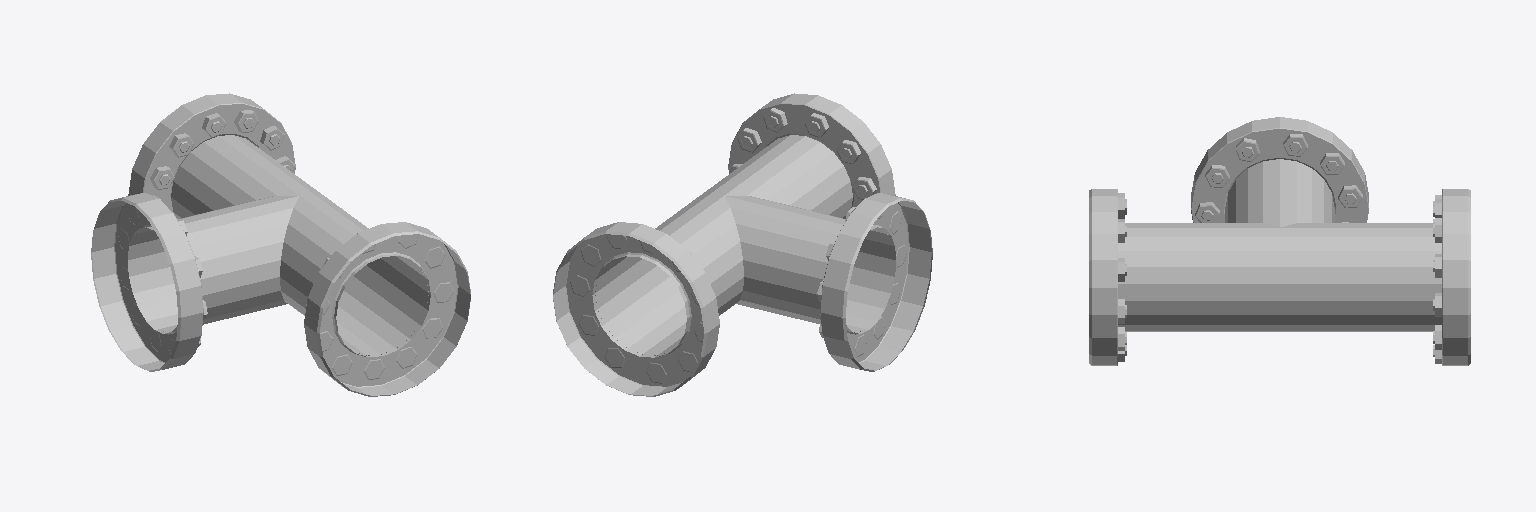
Rendered from T-Pipe.obj.
3 views of the same model, side by side, from view 1: azimuth 30°, elevation 25°; view 2: azimuth 150°, elevation 25°; view 3: azimuth 270°, elevation 25° (orthographic).
Visible parts, largest first — view 1: polySurface84; view 2: polySurface84; view 3: polySurface84.
Part boxes in pixels (x1,y1,x2,y2): polySurface84: (91,93,470,396); polySurface84: (553,93,932,396); polySurface84: (1089,117,1470,365).
Bounding box in the file's own units: 162 × 103 × 220.